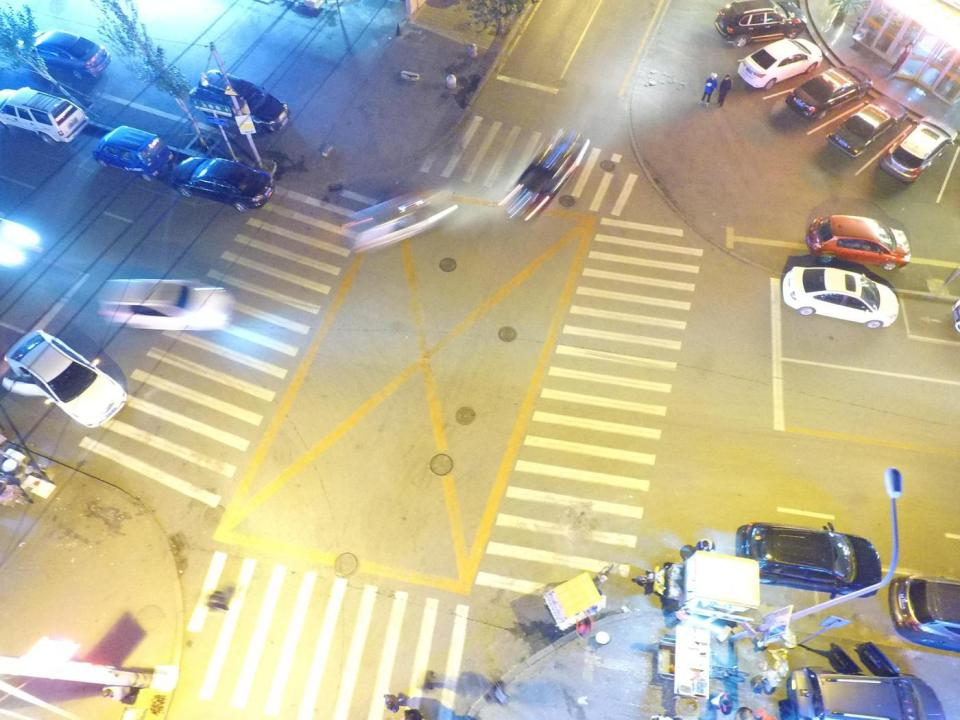car: (4, 328, 128, 428), (743, 521, 881, 598), (786, 666, 947, 719), (782, 265, 899, 330), (97, 277, 231, 331), (805, 213, 911, 272), (193, 68, 289, 132), (344, 190, 442, 252), (172, 156, 275, 214), (888, 573, 960, 652), (879, 114, 958, 184), (514, 137, 585, 213), (825, 94, 908, 159), (784, 65, 874, 123), (19, 28, 111, 82), (736, 36, 824, 90), (713, 1, 808, 50)
van: (0, 87, 90, 149), (91, 124, 174, 183)
